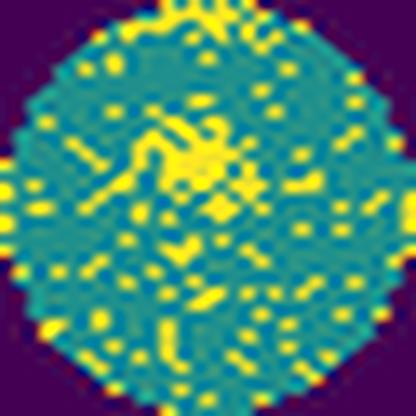Loc: (72, 93, 278, 226)
